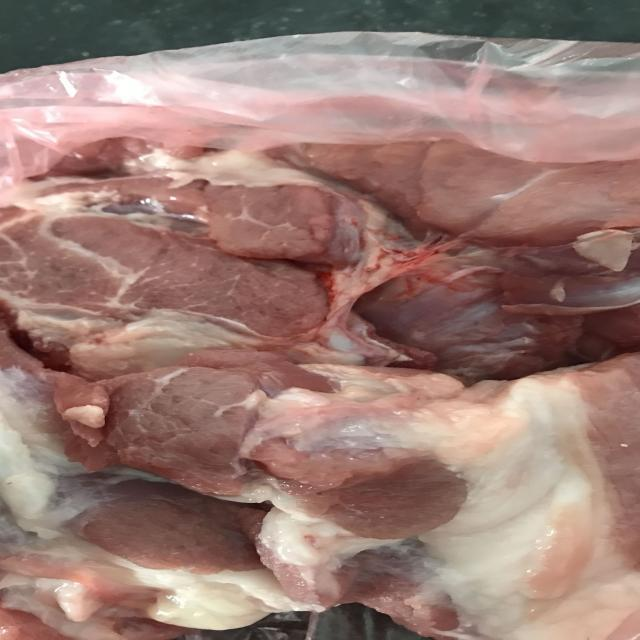chicken: (0, 125, 640, 640)
